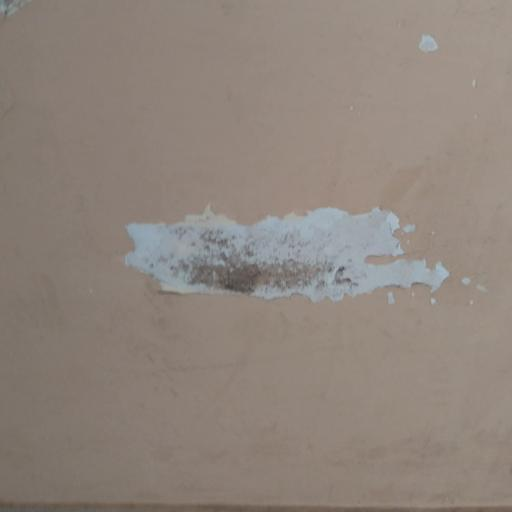peeling: (104, 188, 486, 313), (404, 29, 445, 65)
